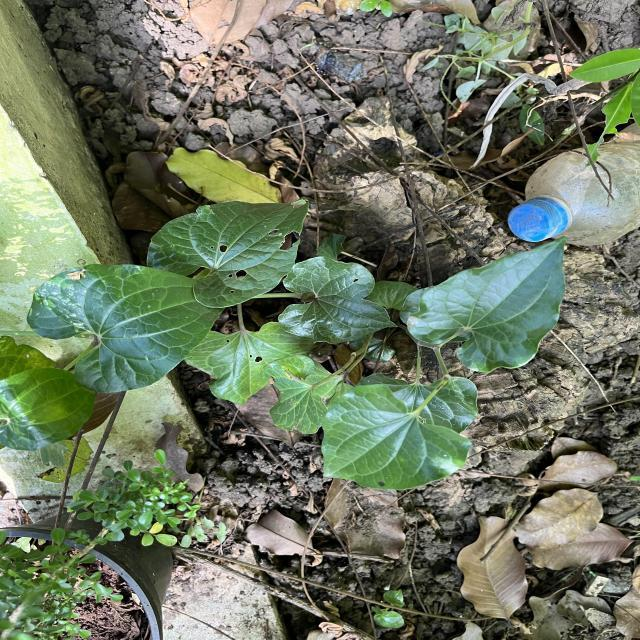Piper longum: (25, 261, 226, 395), (276, 254, 402, 346)
